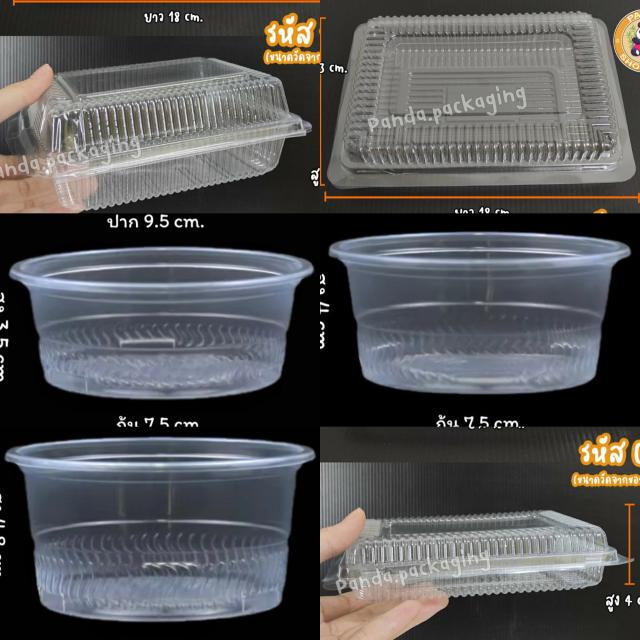plastik: (8, 438, 314, 621), (328, 12, 635, 188), (329, 232, 629, 393), (9, 58, 310, 210), (10, 248, 313, 398), (323, 510, 627, 601)
